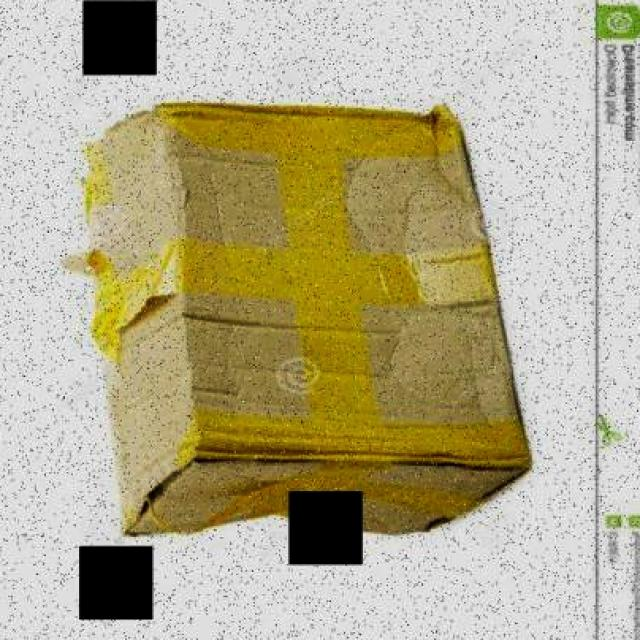box: (68, 96, 536, 549)
